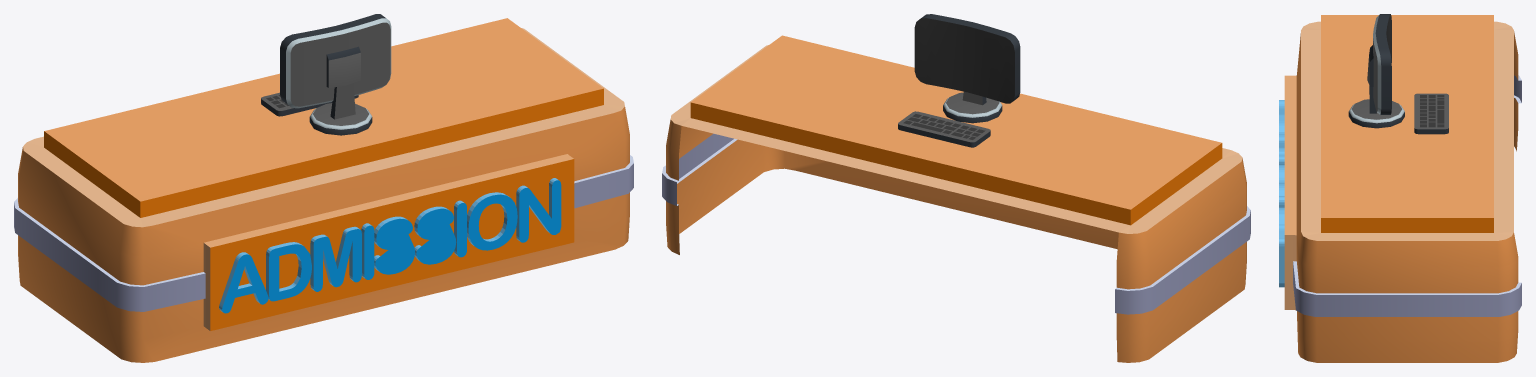
The model's file is Amission Table.fbx.
The picture shows the model from 3 angles, left to right: view 1: azimuth 30°, elevation 25°; view 2: azimuth 150°, elevation 25°; view 3: azimuth 270°, elevation 25°; orthographic projection. The views are drawn at different scales.
Parts seen in each view (by area): view 1: Amission Table; view 2: Amission Table; view 3: Amission Table.
Boxes of the visible parts, x1,y1,x2,y2 form: Amission Table: [14, 14, 633, 362]; Amission Table: [662, 14, 1250, 362]; Amission Table: [1279, 14, 1521, 362].
Size of the model in its own units: 20.88 by 9.44 by 9.48.
